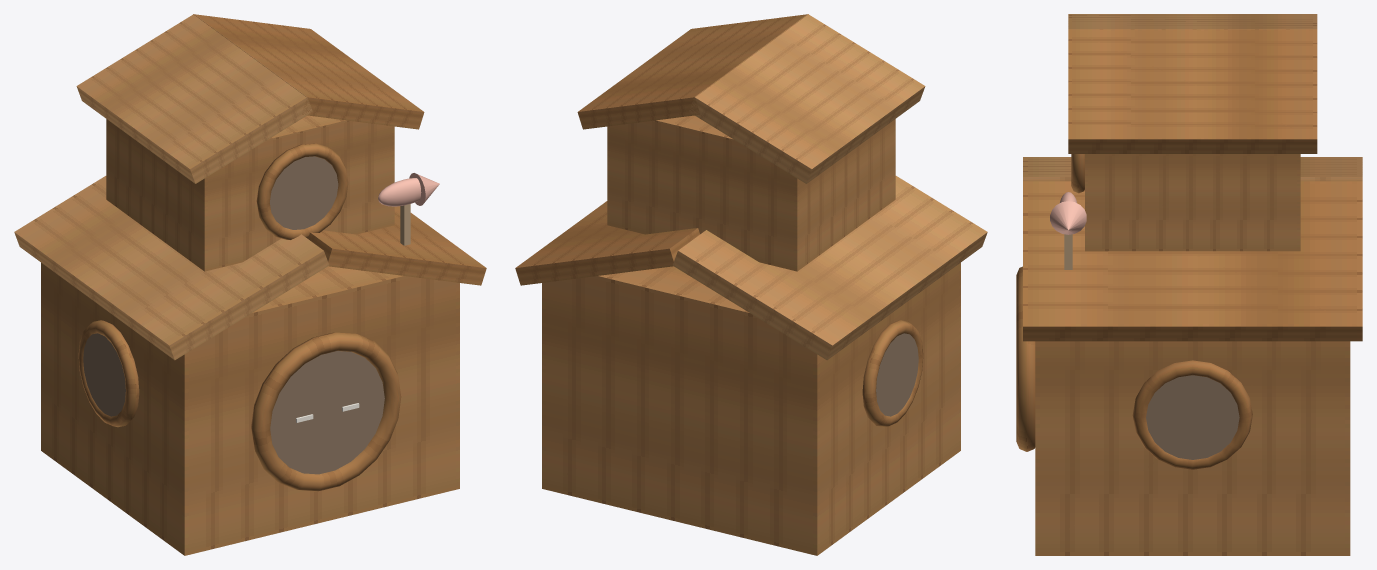
File: cathouse_t1.glb
3 renders of one model, left to right at view 1: azimuth 30°, elevation 25°; view 2: azimuth 150°, elevation 25°; view 3: azimuth 270°, elevation 25°, orthographic. The views are drawn at different scales.
Visible parts, largest first — view 1: cathouse_t1; view 2: cathouse_t1; view 3: cathouse_t1.
Boxes of the visible parts, <box> form: cathouse_t1: <box>14,14,486,555</box>; cathouse_t1: <box>515,14,987,555</box>; cathouse_t1: <box>1016,14,1362,555</box>.
Size of the model in its own units: 0.9681 by 1.21 by 0.836.
Materials: 8 (3 with a texture image).
